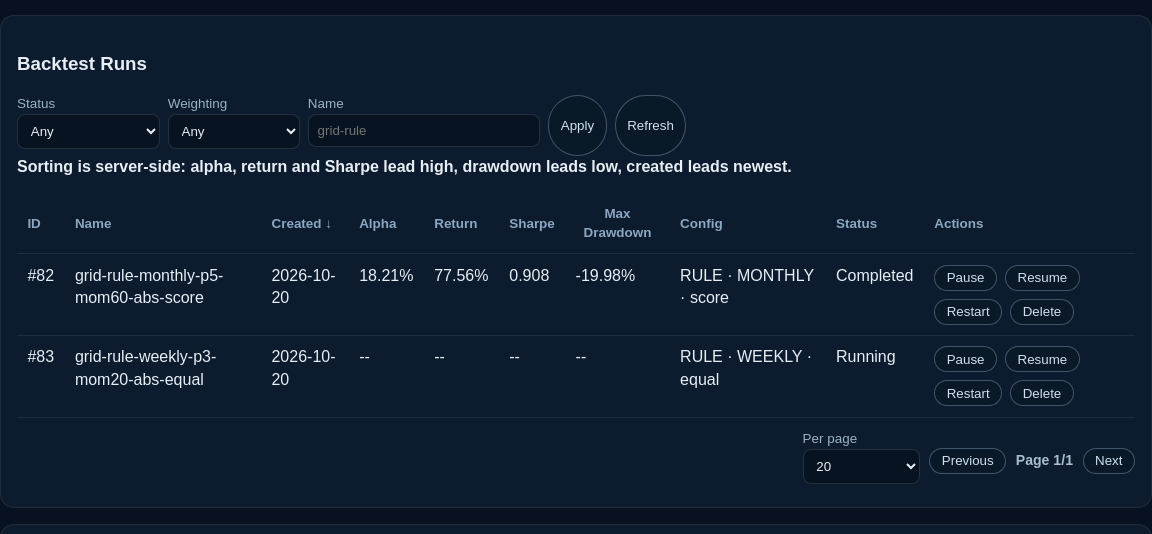
EtfBacktestWorkbenchPage › gates the lifecycle buttons the way the server does, from pause through resume
(page scrolled)
Step 1. Click the text "#83" → x=576, y=376, box [17, 335, 1135, 417]
(page scrolled)
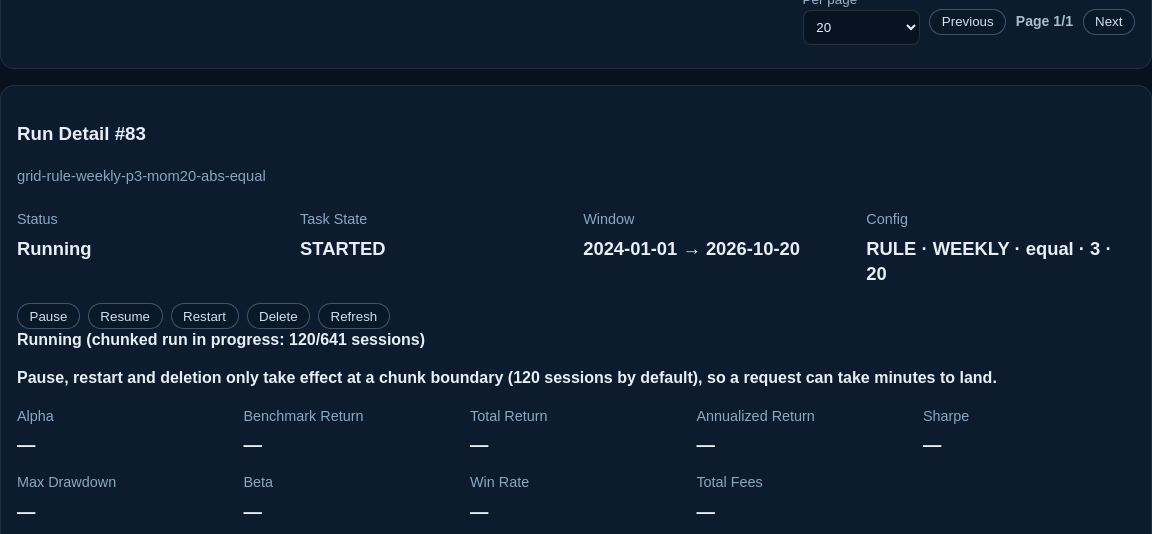
Now the text "Running (chunked run in progress: 120/641 sessions)" is shown, box [17, 331, 425, 348]
Now the button "Pause" is enabled
Now the button "Restart" below "STARTED" is enabled, box [170, 303, 238, 329]
Step 2. Click the button "Pause" → x=48, y=316, box [17, 303, 80, 329]
(page scrolled)
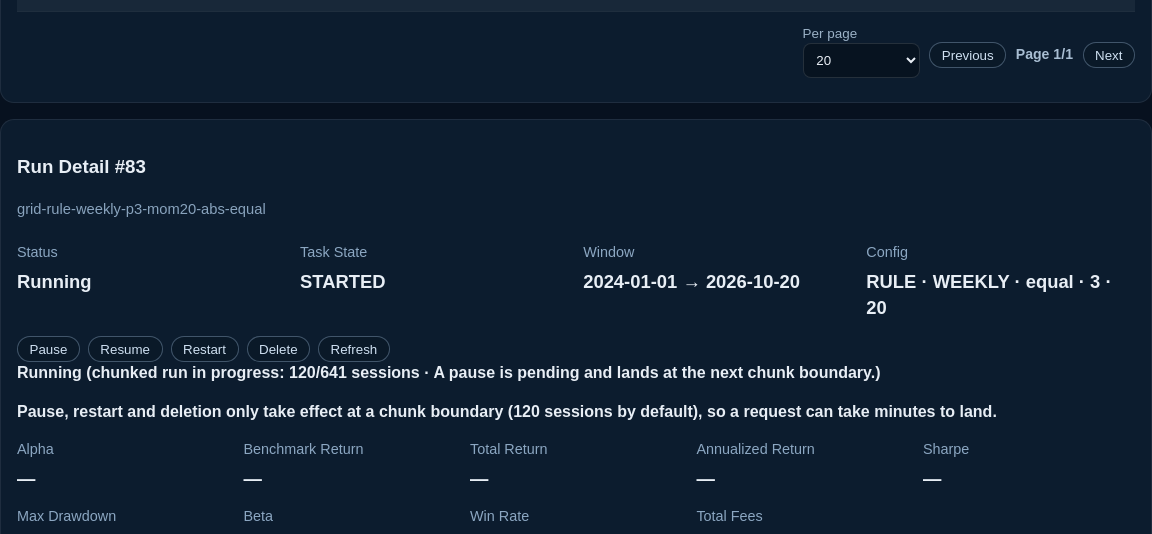
Now the text "Running (chunked run in progress: 120/641 sessions · A pause is pending and lands at the next chunk boundary.)" is shown, box [17, 364, 881, 381]
Now the button "Pause" is disabled, box [17, 336, 80, 362]
Now the button "Restart" below "STARTED" is disabled, box [170, 336, 238, 362]
Step 3. Click the button "Refresh" → x=354, y=349, box [318, 336, 390, 362]
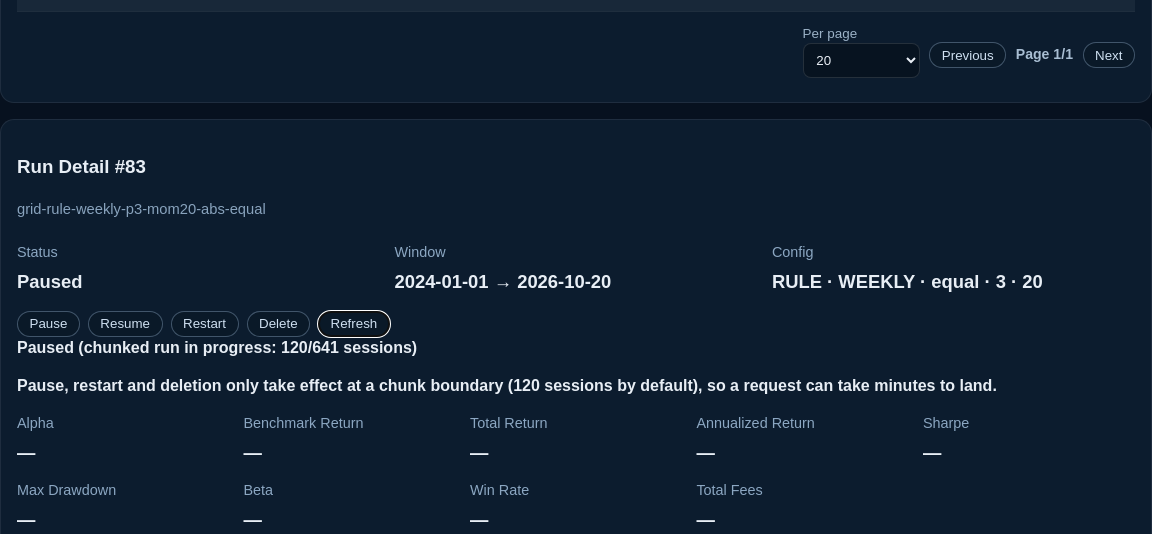
Now the button "Pause" is disabled, box [17, 311, 80, 336]
Now the text "Paused (chunked run in progress: 120/641 sessions)" is shown, box [17, 338, 417, 356]
Now the button "Resume" below "2024-01-01" is enabled
Step 4. Click the button "Resume" below "2024-01-01" → x=125, y=324, box [88, 311, 162, 336]
(page scrolled)
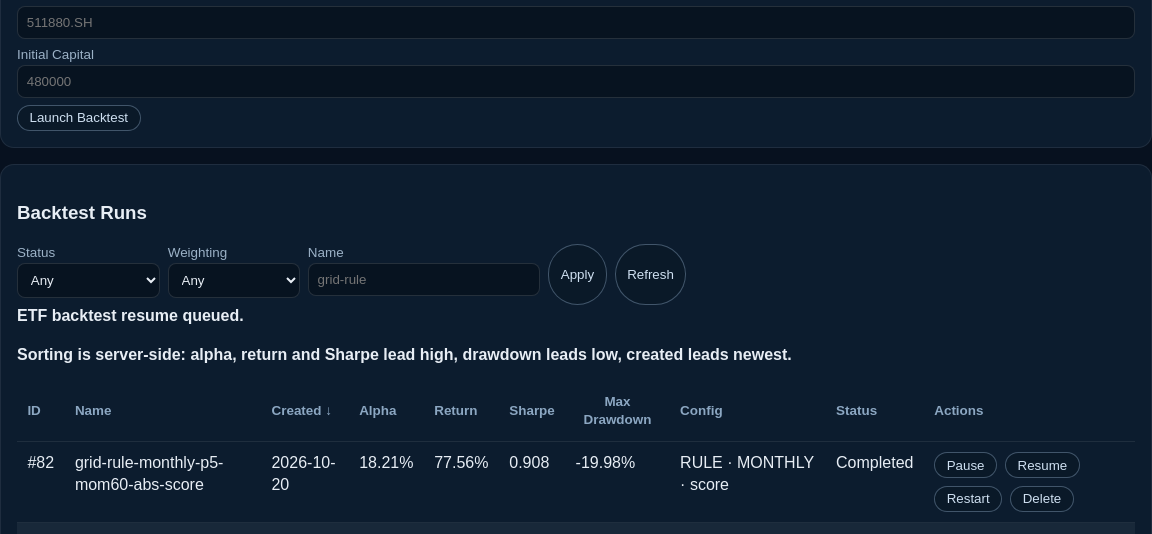
Now the text "ETF backtest resume queued." is shown, box [17, 308, 244, 324]
